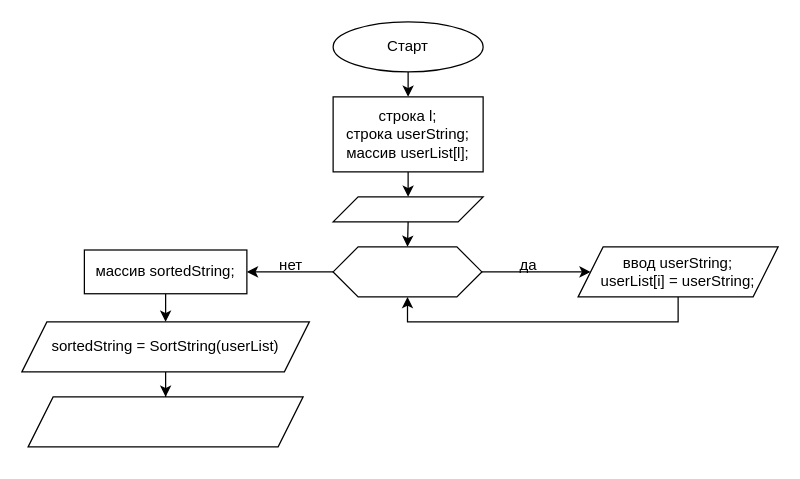
Image size: 800x479. Some labels were removed from this diagram. Each missing label, with the centre of its shape:
"i = 0; i < l; i++" belongs at (407,271).
"ввод l;" belongs at (407,209).
"вывод GetList(userList) вывод GetList(sortedList)" belongs at (165,421).
